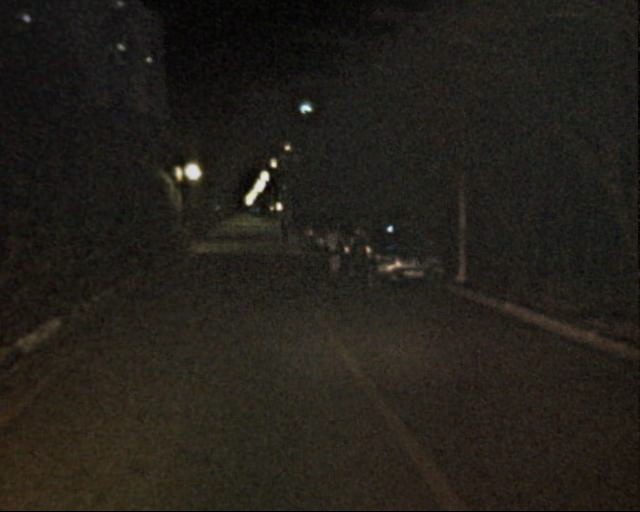person: (320, 223, 343, 278), (283, 215, 297, 250), (275, 219, 285, 244)
